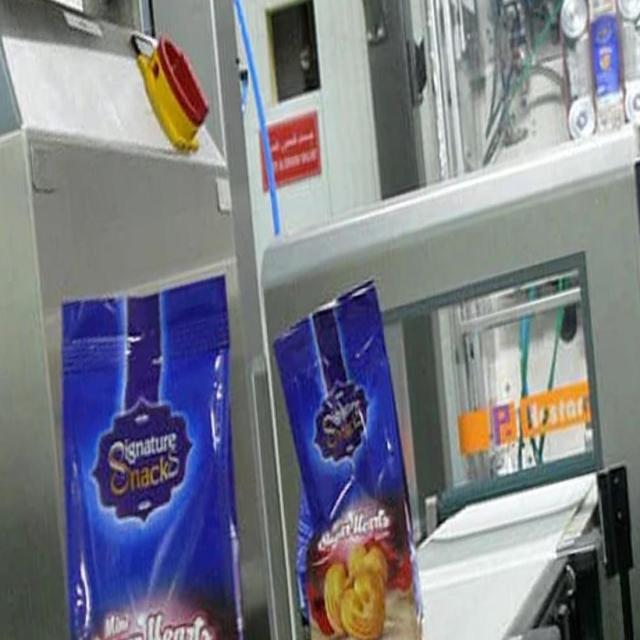food: (59, 275, 244, 637), (270, 276, 424, 638)
